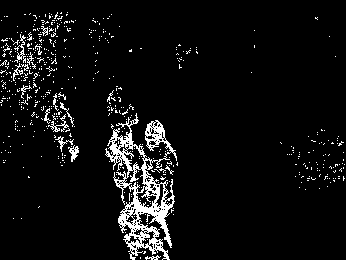person: (140, 119, 182, 206), (126, 189, 173, 260), (106, 123, 140, 208), (43, 90, 80, 168)
